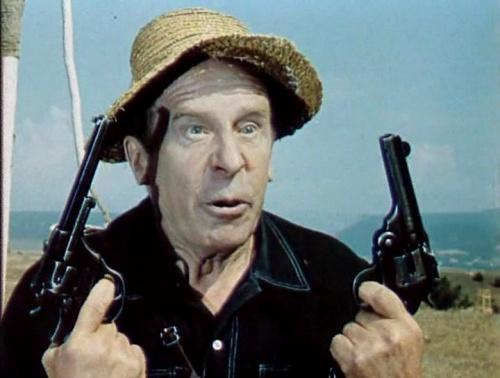Gun: (24, 118, 126, 347), (353, 132, 437, 317)
